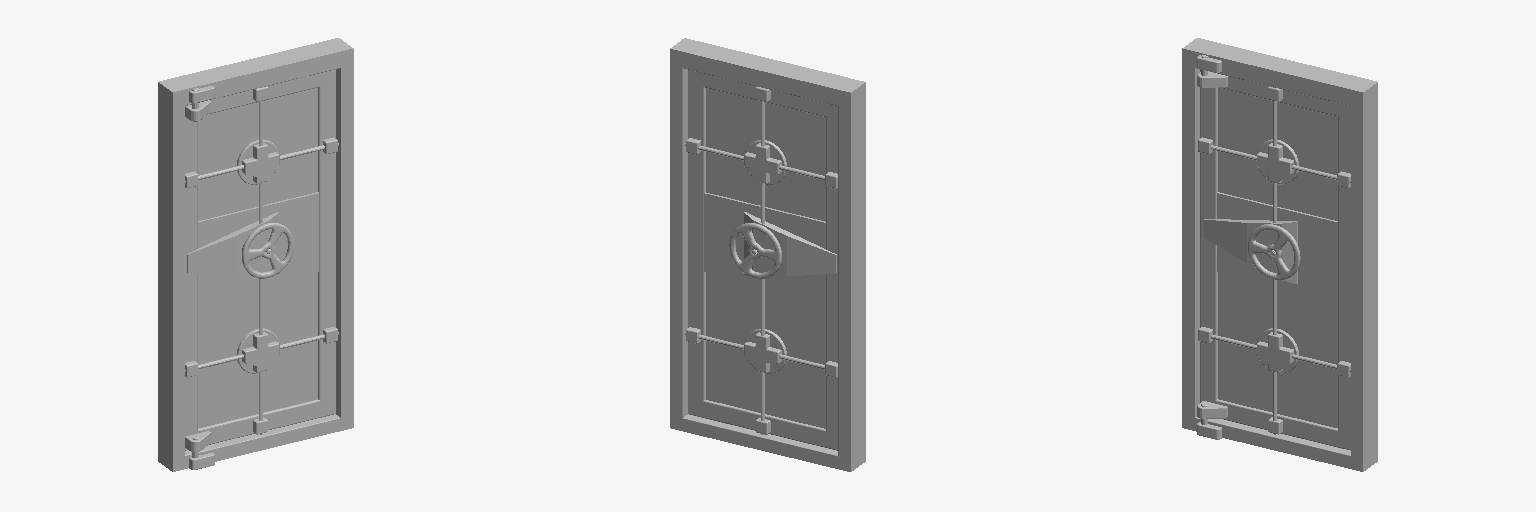
File: SingleDoor.obj
3 renders of one model, left to right at view 1: azimuth 30°, elevation 25°; view 2: azimuth 150°, elevation 25°; view 3: azimuth 330°, elevation 25°, orthographic.
Visible parts, largest first — view 1: Door_2, Base_2; view 2: Door_2, Base_2; view 3: Door_2, Base_2.
Part boxes in pixels (x1,y1,x2,y2): Door_2: (185,69,338,457); Base_2: (158,38,353,471); Door_2: (685,70,837,450); Base_2: (670,38,865,471); Door_2: (1197,55,1350,450); Base_2: (1182,38,1377,471).
Size of the model in its own units: 1.15 by 2.31 by 0.2415.